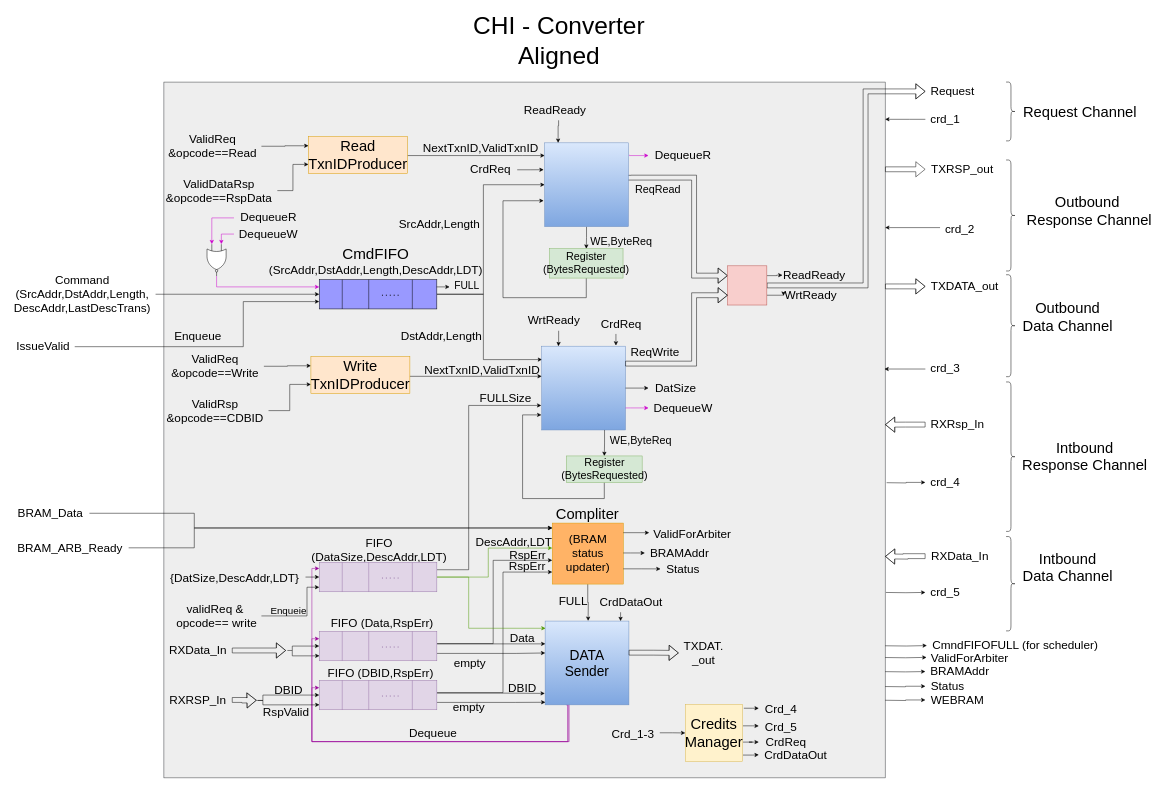
The diagram is 1166 pixels wide and 786 high, and some of its shapes have lost their labels. Each missing label, with the centre of its shape:
Arb: (x=747, y=285)
Read Requester: (x=586, y=184)
Write Requester: (x=583, y=388)
